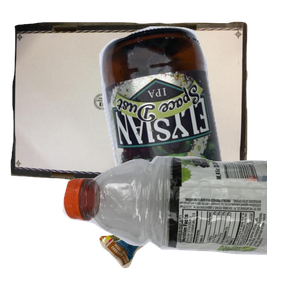cardboard: (10, 19, 250, 199)
glass: (97, 24, 300, 204)
plastic: (60, 152, 300, 300)
trash: (97, 151, 283, 300)
